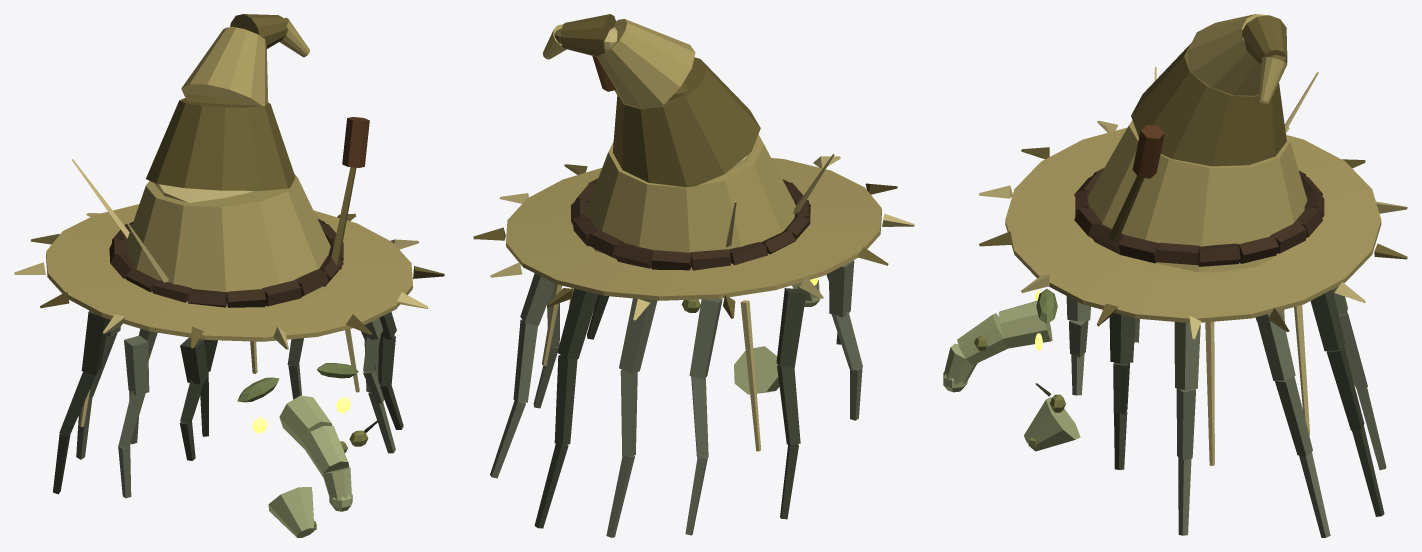
The model's file is sedge_sister_head.glb.
3 renders of one model, left to right at view 1: azimuth 30°, elevation 25°; view 2: azimuth 150°, elevation 25°; view 3: azimuth 270°, elevation 25°, orthographic. The views are drawn at different scales.
Visible parts, largest first — view 1: sedge_sister_head; view 2: sedge_sister_head; view 3: sedge_sister_head.
Part boxes in pixels (x1,y1,x2,y2): sedge_sister_head: [14, 14, 444, 537]; sedge_sister_head: [473, 14, 914, 537]; sedge_sister_head: [943, 14, 1407, 537].
Size of the model in its own units: 1.72 by 2.01 by 1.71.
